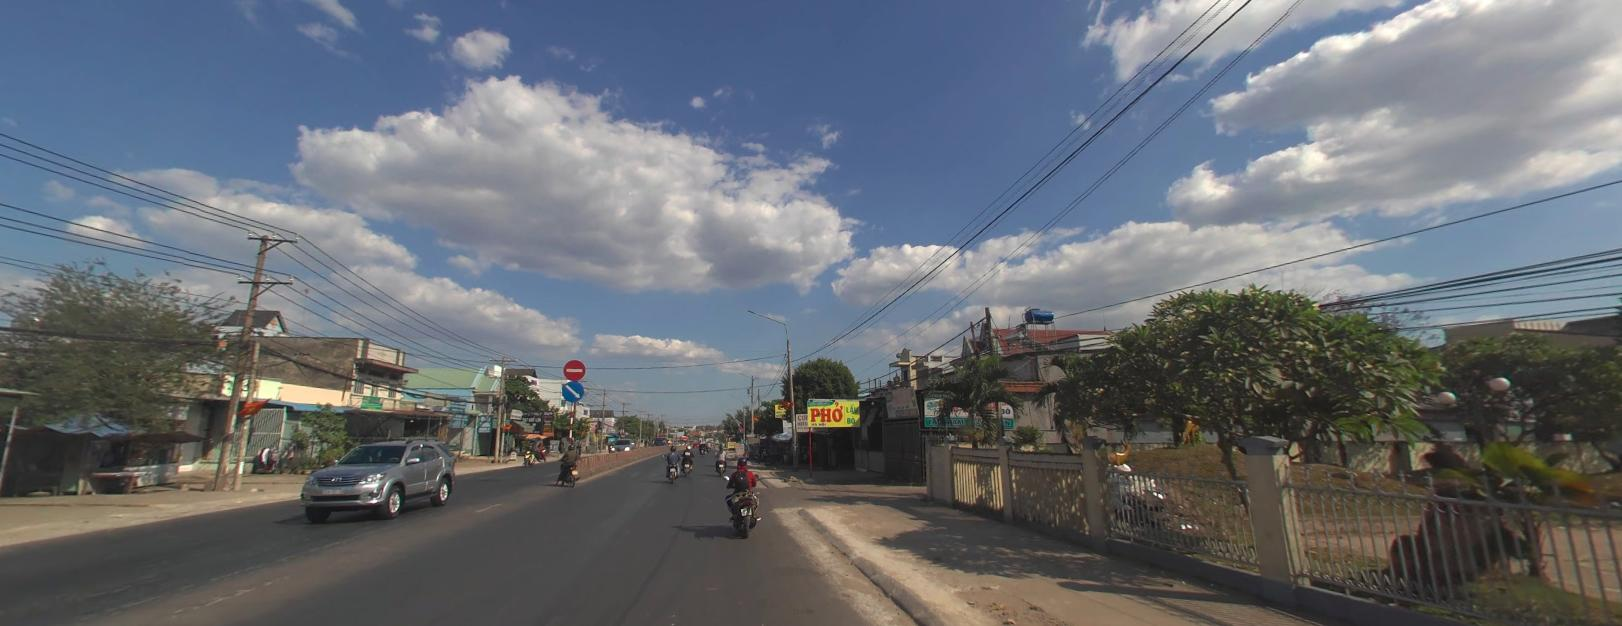Cam nguoc chieu: (563, 357, 586, 379), (563, 358, 585, 379), (563, 358, 584, 378)
Hieu lenh: (561, 379, 583, 400), (561, 380, 583, 401), (562, 379, 583, 400)
